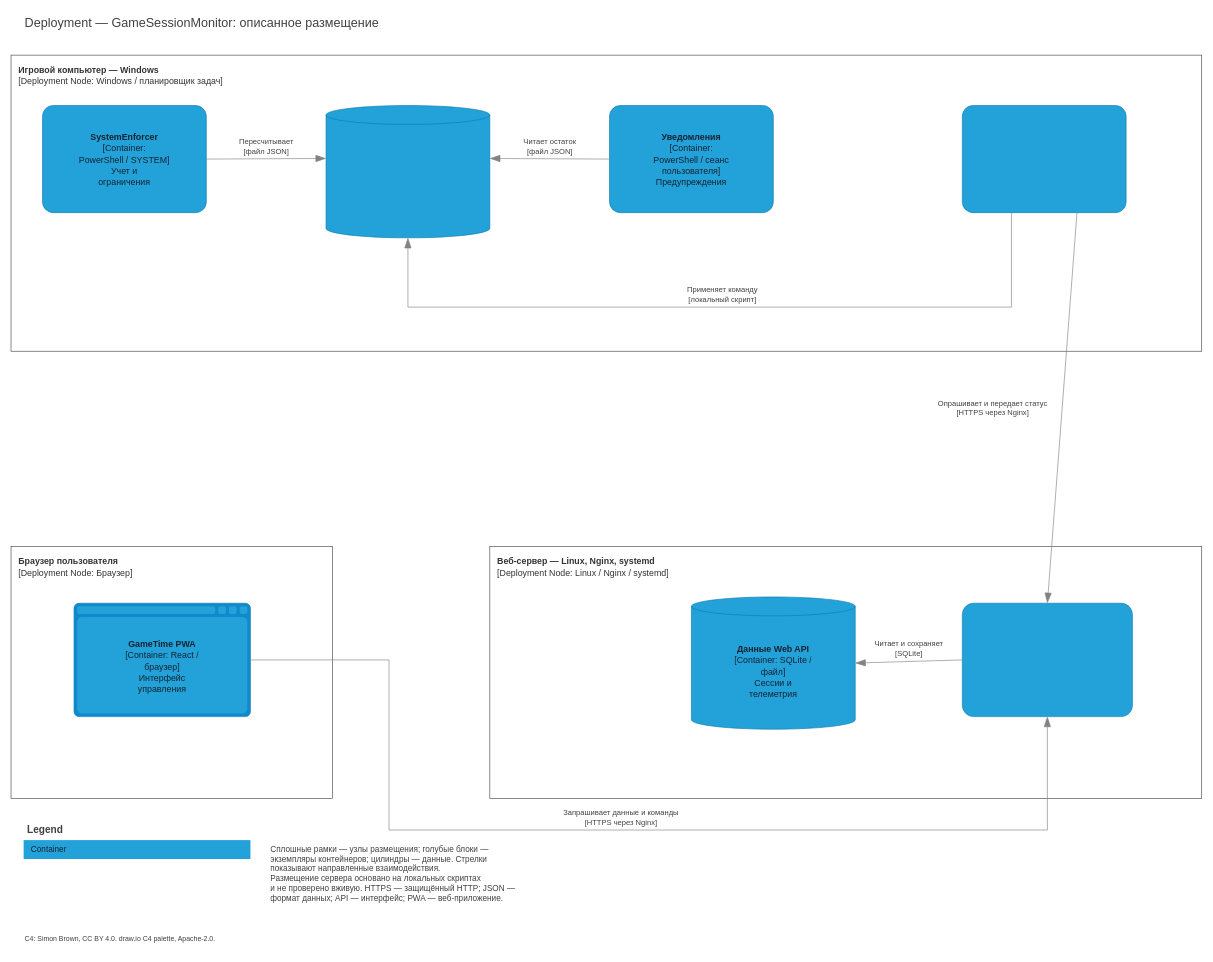
This 1213x962 diagram has some shape labels left out. Each missing label, with the box of its shape:
Web API [Container: Python / 127.0.0.1:8097] Команды и состояние: (962, 603, 1132, 717)
WebAgent [Container: PowerShell / задача] Опрос сервера и команды: (962, 105, 1126, 213)
Игровой бюджет [Container: JSON / файл] Остаток и история: (325, 105, 490, 238)
